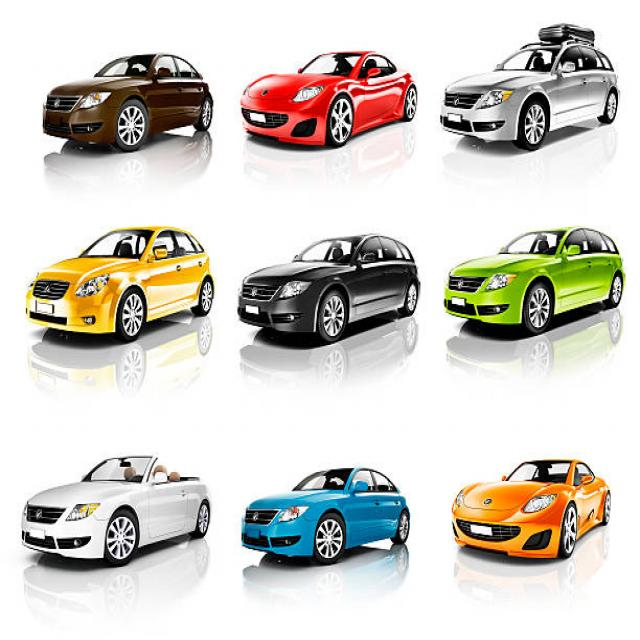car: (436, 14, 621, 163), (15, 453, 214, 582), (16, 215, 215, 342), (234, 227, 422, 346), (32, 37, 218, 153), (443, 448, 613, 566), (235, 40, 418, 149), (438, 222, 622, 328), (238, 464, 412, 566)
